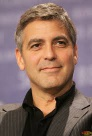male: (11, 4, 86, 95)
